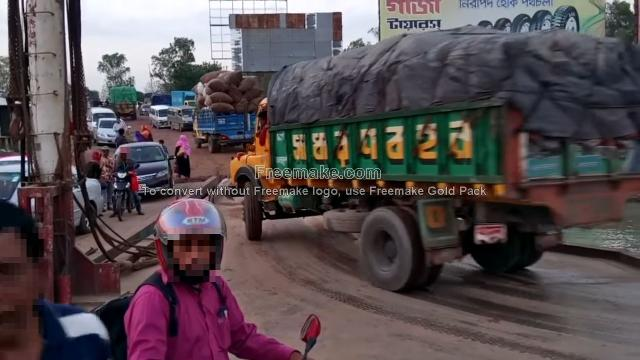car: (126, 137, 176, 198), (95, 113, 127, 145)
truck: (230, 16, 640, 294), (191, 69, 257, 152), (108, 85, 139, 118)
van: (167, 105, 194, 133), (150, 104, 171, 128)
